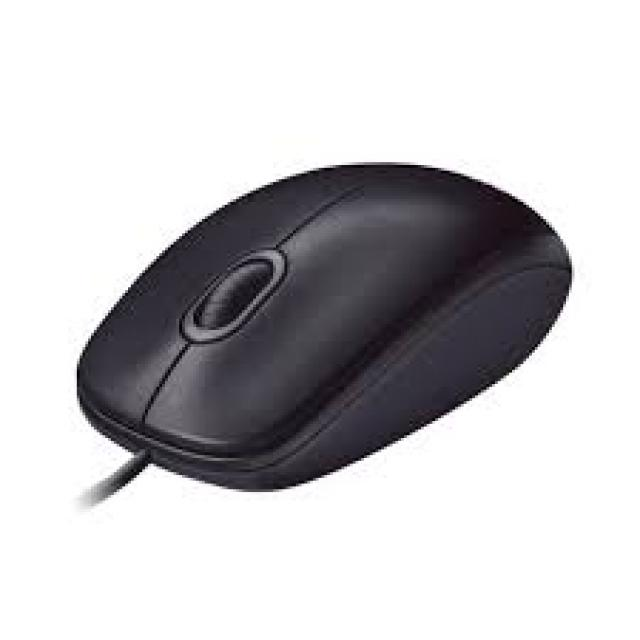others: (49, 122, 612, 509)
